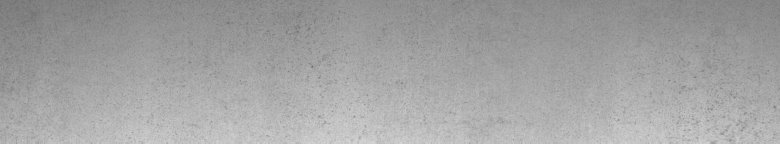ib: (679, 66, 745, 135)
